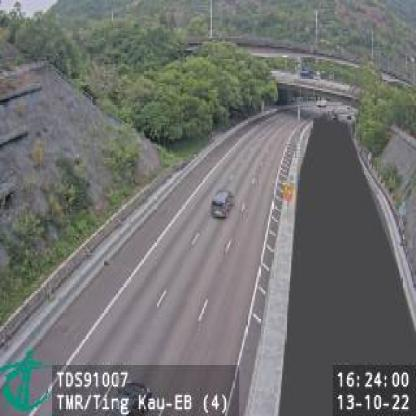Car: (210, 189, 233, 220)
